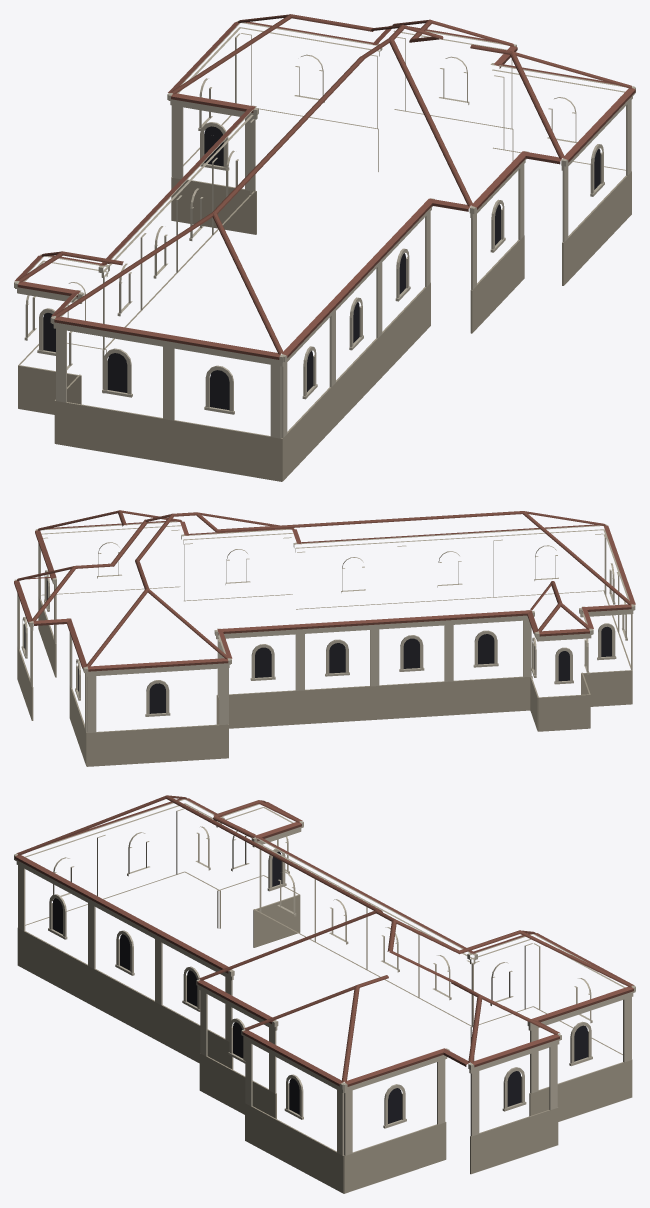
The picture shows the model from 3 angles, top to bottom: view 1: azimuth 30°, elevation 25°; view 2: azimuth 150°, elevation 25°; view 3: azimuth 270°, elevation 25°; orthographic projection. The views are drawn at different scales.
Visible parts, largest first — view 1: detail; view 2: detail; view 3: detail.
Boxes of the visible parts, x1,y1,x2,y2 form: detail: [14, 14, 635, 481]; detail: [14, 510, 635, 766]; detail: [14, 795, 635, 1193].
Size of the model in its own units: 39.6 by 12.16 by 36.18.
